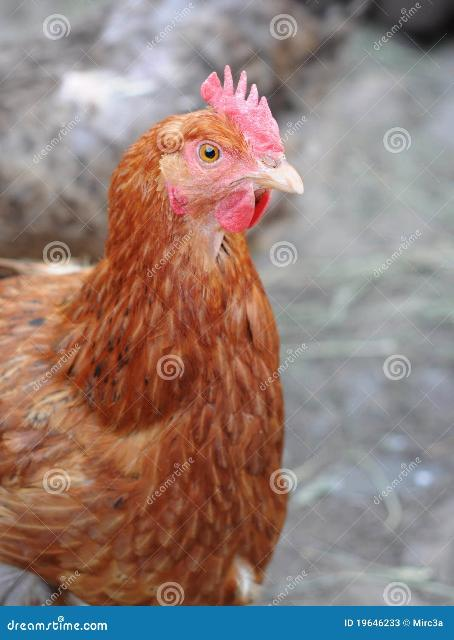Chicken: (0, 66, 309, 604)
